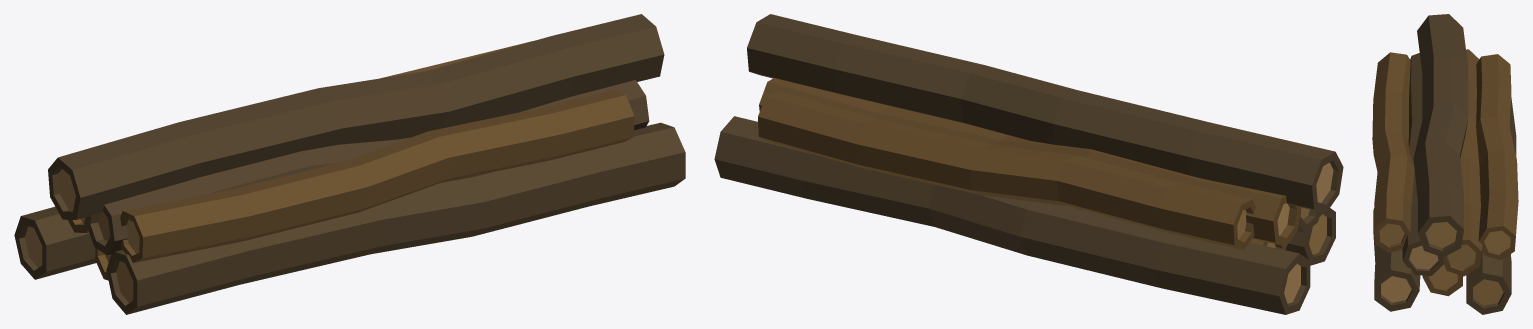
Rendered from logstack.fbx.
The picture shows the model from 3 angles, left to right: view 1: azimuth 30°, elevation 25°; view 2: azimuth 150°, elevation 25°; view 3: azimuth 270°, elevation 25°; orthographic projection. The views are drawn at different scales.
Parts seen in each view (by area): view 1: logstack; view 2: logstack; view 3: logstack.
Boxes of the visible parts, x1,y1,x2,y2 form: logstack: (14,14,685,314); logstack: (714,14,1343,314); logstack: (1372,14,1518,314).
Size of the model in its own units: 774 by 179 by 236.
